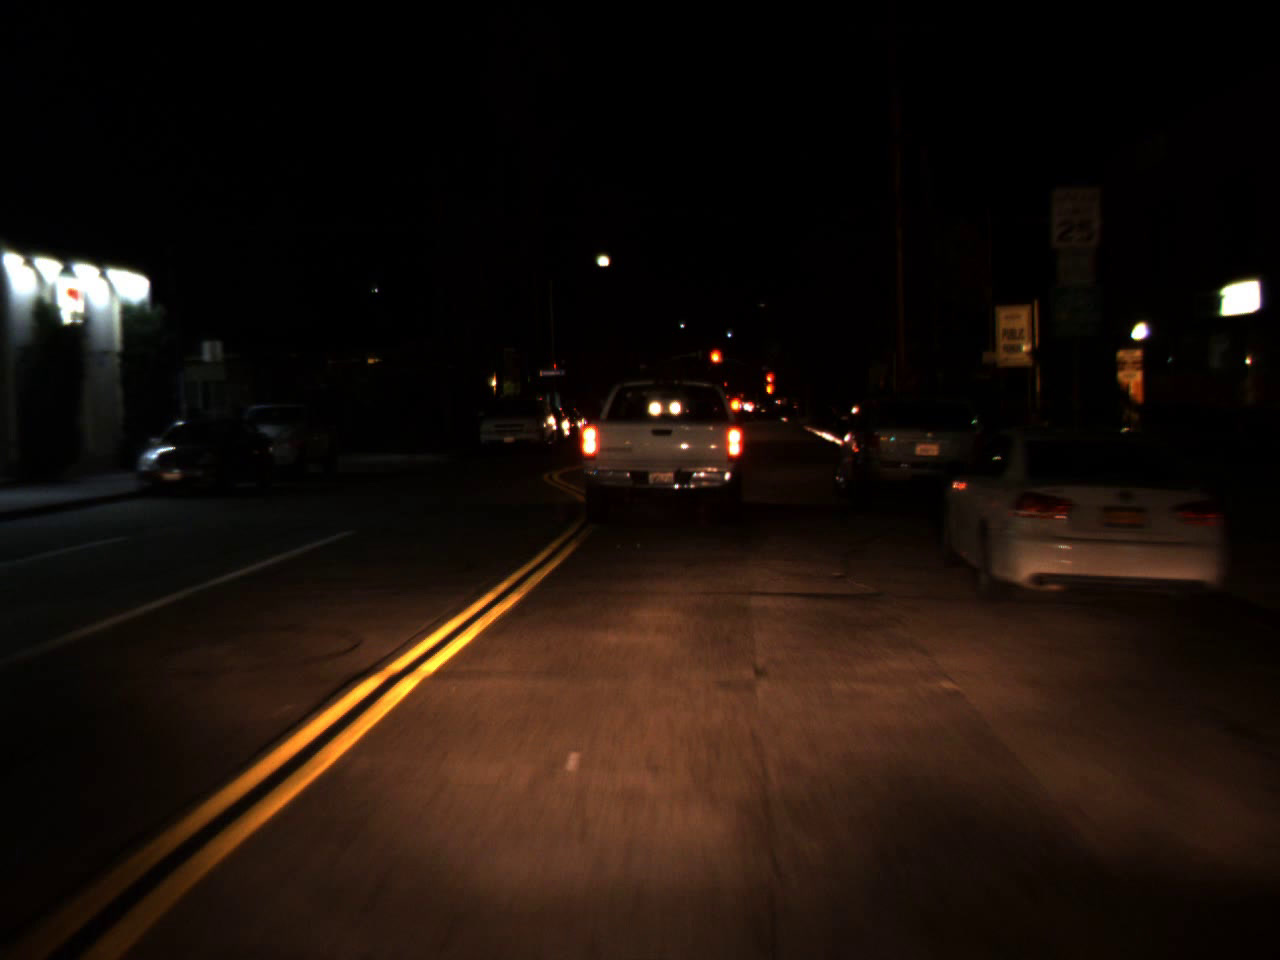stop: (708, 348, 723, 377), (765, 371, 777, 395)
